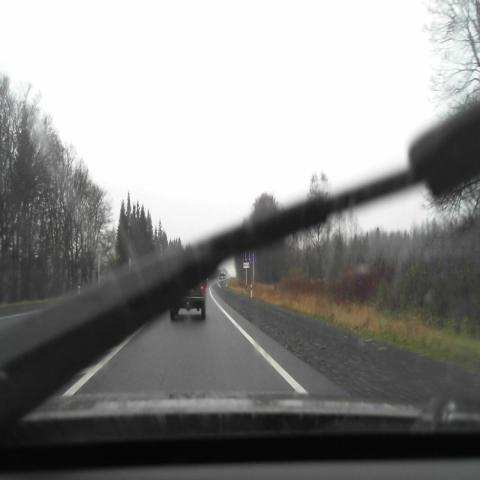5_15_7: (244, 251, 256, 262)
